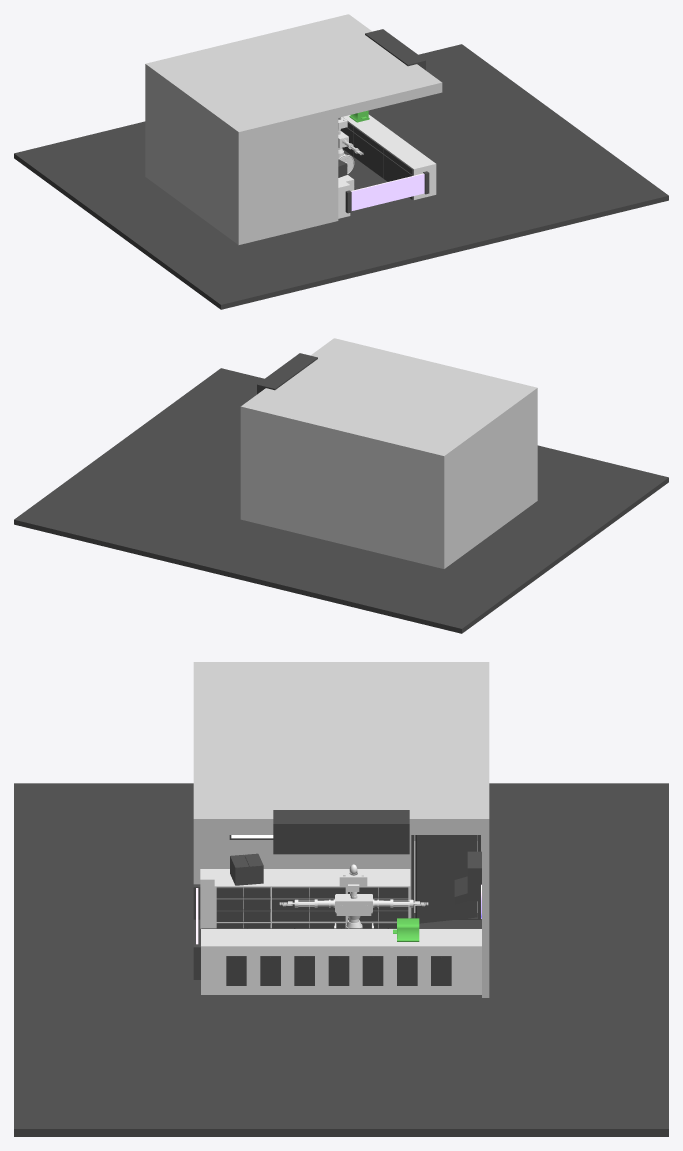
3 renders of one model, top to bottom at view 1: azimuth 30°, elevation 25°; view 2: azimuth 150°, elevation 25°; view 3: azimuth 270°, elevation 25°, orthographic. The views are drawn at different scales.
Visible parts, largest first — view 1: Cube, Cube036, Cube003, Cube014, Cube010, Cube002, ROB; view 2: Cube, Cube036, Cube002; view 3: Cube, Cube036, Cube003, Cube039, Cube002, porte001, TEXT, ROB, Cube013_1, Cube018, Cube019.
Boxes of the visible parts, x1=… form: Cube: x1=14, y1=44, x2=668, y2=309; Cube036: x1=145, y1=14, x2=442, y2=244; Cube003: x1=338, y1=114, x2=436, y2=199; Cube014: x1=340, y1=121, x2=413, y2=199; Cube010: x1=351, y1=173, x2=424, y2=210; Cube002: x1=365, y1=29, x2=425, y2=70; ROB: x1=338, y1=117, x2=363, y2=173; Cube: x1=14, y1=368, x2=668, y2=633; Cube036: x1=240, y1=338, x2=537, y2=568; Cube002: x1=257, y1=353, x2=317, y2=394; Cube: x1=14, y1=783, x2=668, y2=1136; Cube036: x1=193, y1=662, x2=489, y2=997; Cube003: x1=201, y1=869, x2=481, y2=994; Cube039: x1=216, y1=887, x2=408, y2=928; Cube002: x1=273, y1=810, x2=409, y2=854; porte001: x1=415, y1=835, x2=477, y2=923; TEXT: x1=226, y1=956, x2=451, y2=985; ROB: x1=279, y1=864, x2=428, y2=928; Cube013_1: x1=454, y1=851, x2=481, y2=904; Cube018: x1=230, y1=853, x2=263, y2=885; Cube019: x1=200, y1=869, x2=214, y2=928.
Bounding box in the file's own units: 15.63 × 3.98 × 12.51.
